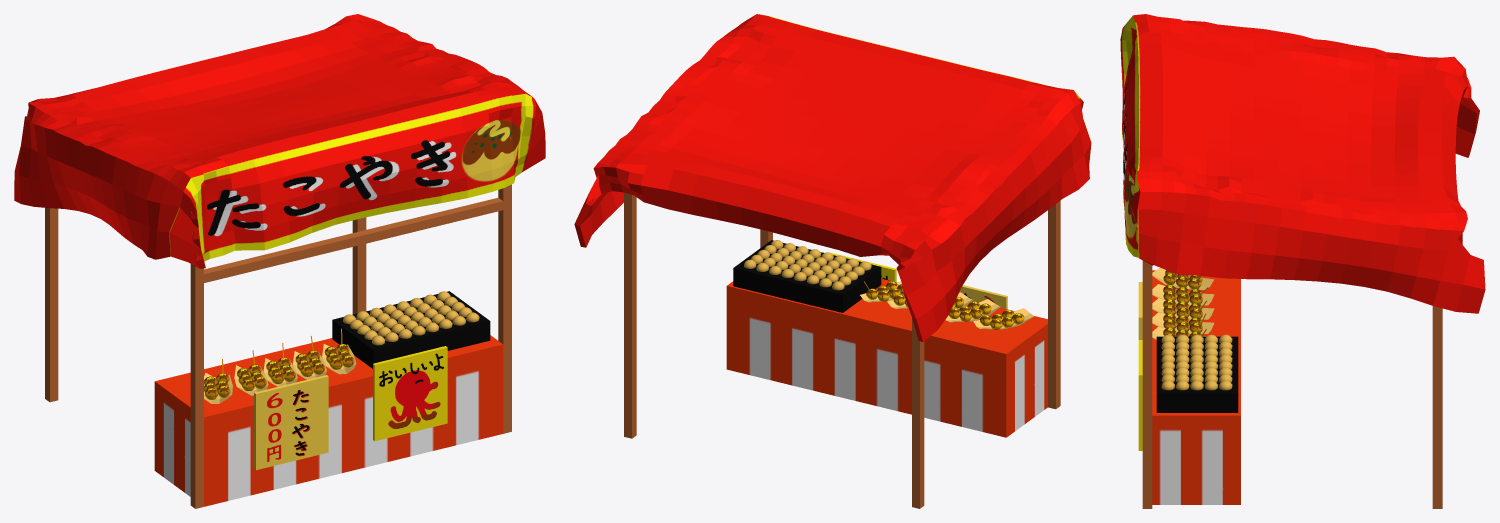
File: takoyaki_1015.fbx
The picture shows the model from 3 angles, left to right: view 1: azimuth 30°, elevation 25°; view 2: azimuth 150°, elevation 25°; view 3: azimuth 270°, elevation 25°; orthographic projection. The views are drawn at different scales.
Parts seen in each view (by area): view 1: Plane, Cube, Cube.005, Plane.001, Plane.007, Cube.008; view 2: Plane, Cube, Cube.005, Cube.008; view 3: Plane, Cube, Cube.005, Cube.008, Plane.007.
Part boxes in pixels (box(x1,y1,x2,y2)): Plane: box(14, 14, 545, 268); Cube: box(154, 335, 503, 506); Cube.005: box(45, 184, 511, 508); Plane.001: box(254, 375, 328, 470); Plane.007: box(373, 346, 447, 440); Cube.008: box(332, 291, 490, 368); Plane: box(574, 14, 1091, 341); Cube: box(726, 278, 1047, 437); Cube.005: box(624, 192, 1060, 508); Cube.008: box(733, 240, 881, 312); Plane: box(1120, 14, 1485, 313); Cube: box(1152, 270, 1240, 504); Cube.005: box(1142, 260, 1442, 508); Cube.008: box(1156, 336, 1238, 412); Plane.007: box(1138, 340, 1142, 450).
Size of the model in its own units: 928 by 760 by 743.
